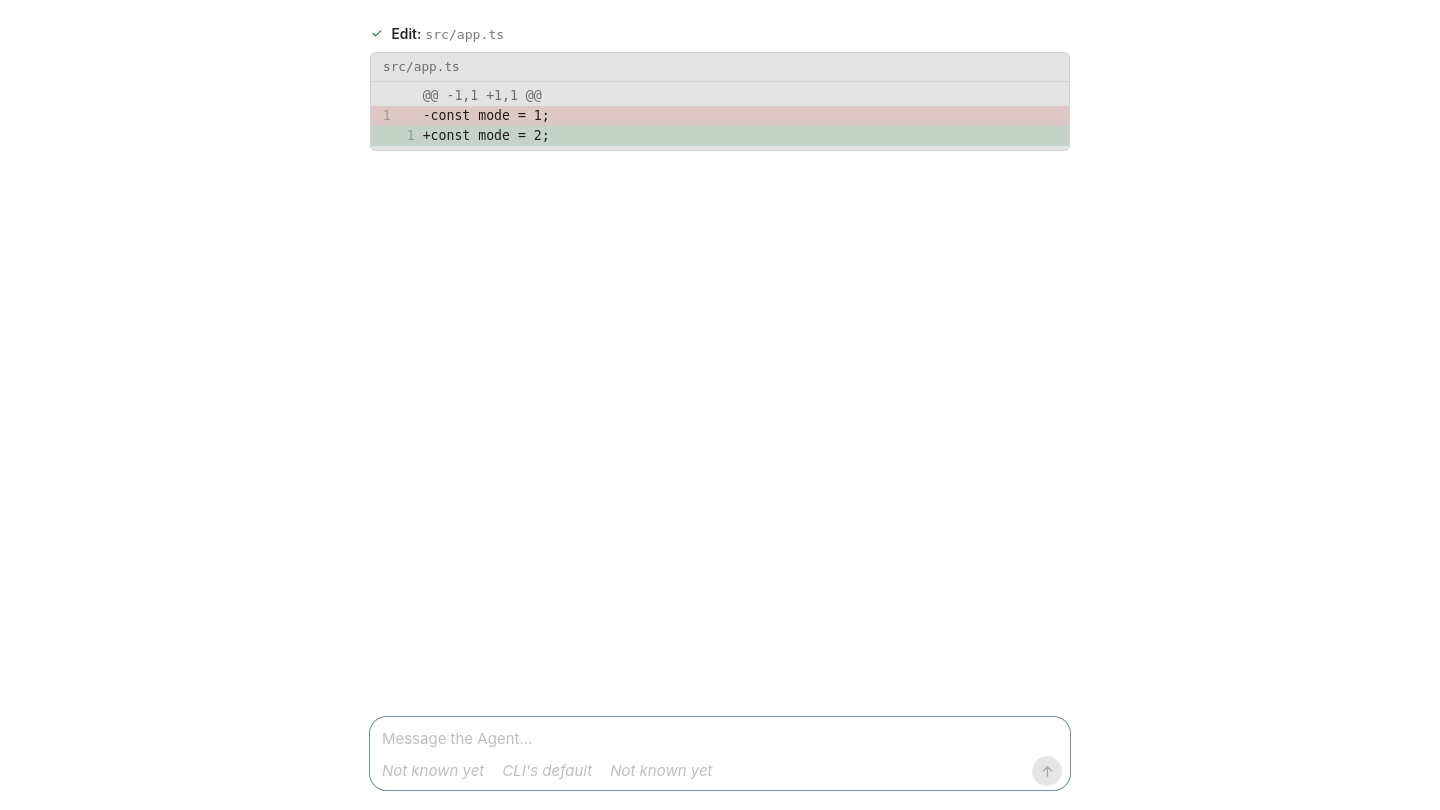
Test: the find bar › opens a readable view cut by its Clip when a match in it becomes current
The width and height of the screenshot is (1440, 810).
Press f in the element with class "conversation-surface"
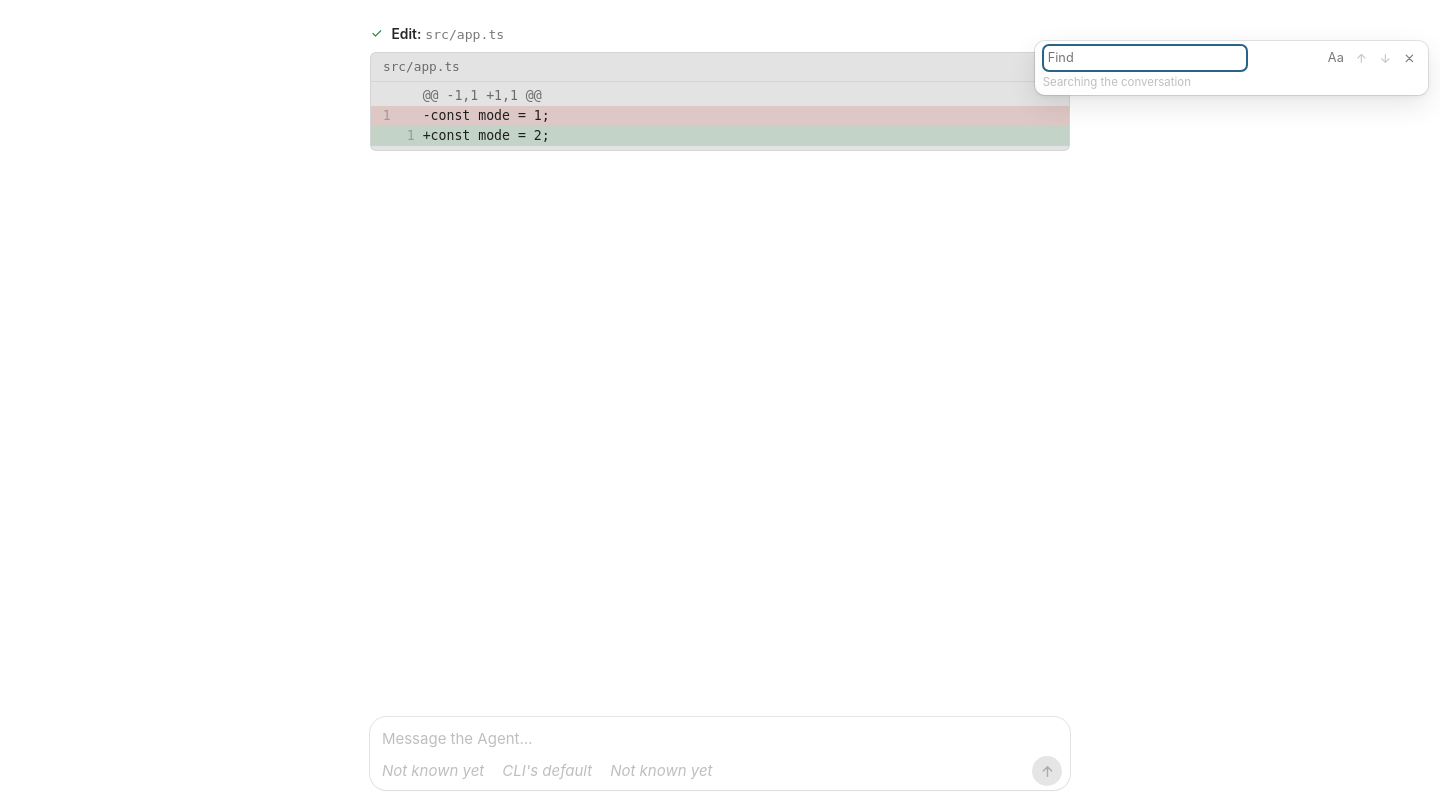
Type "mode = 2" into the field labelled "Find" at (1145, 58), box x1=1043 y1=45 x2=1247 y2=71
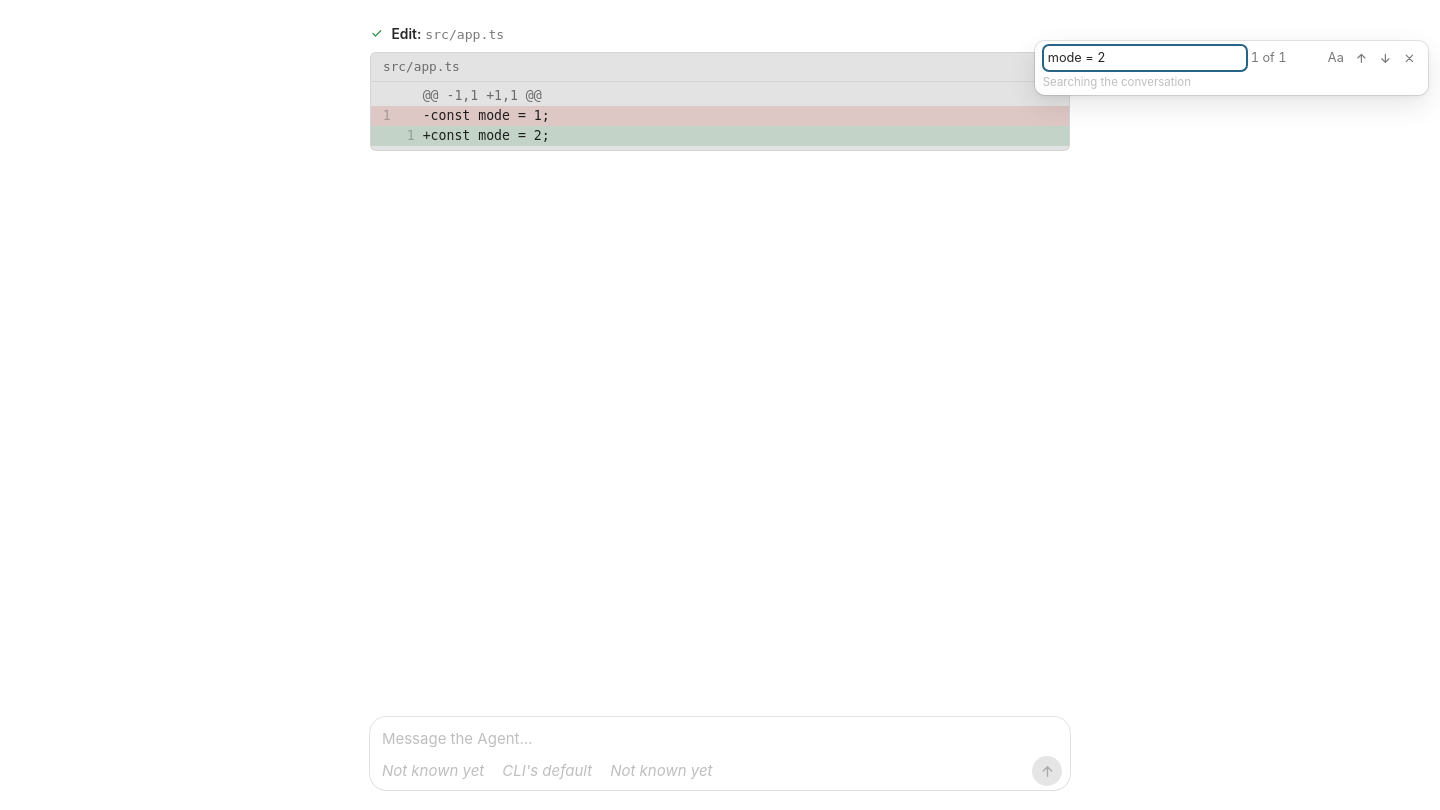
Expected: the text with class "conversation-find-count" reads "1 of 1", x1=1251 y1=50 x2=1286 y2=65
